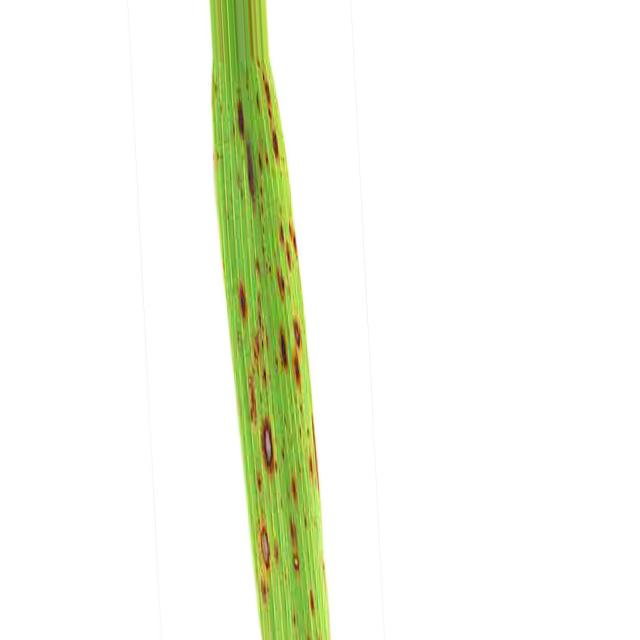Brown_Spot: (261, 416, 276, 471), (240, 150, 256, 196), (290, 520, 300, 571), (248, 376, 258, 422), (265, 89, 279, 119), (256, 575, 269, 604), (236, 100, 245, 140), (261, 531, 270, 569), (239, 282, 248, 319), (292, 354, 301, 386), (250, 471, 262, 494), (280, 334, 288, 366), (276, 270, 285, 296), (309, 456, 318, 481), (284, 249, 298, 264), (272, 131, 279, 158), (290, 476, 298, 499), (294, 328, 304, 345), (292, 610, 299, 631), (278, 222, 284, 241), (310, 590, 315, 609)
